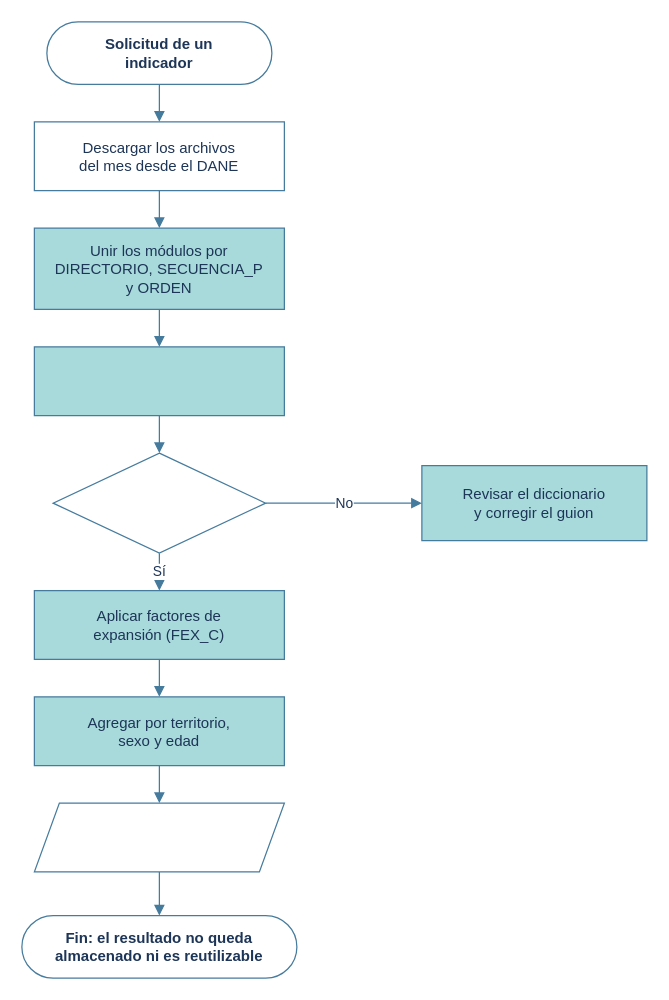
The diagram is 669 pixels wide and 1000 high, and some of its shapes have lost their labels. Here are the shapes that lost their labels. From the top down, the centre of each, then its label:
(x=158, y=381): Renombrar variables a mano según el periodo
(x=159, y=502): ¿Los nombres coinciden?
(x=158, y=837): Tabla o gráfico en el equipo local
